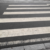zebra: (1, 4, 50, 50)
